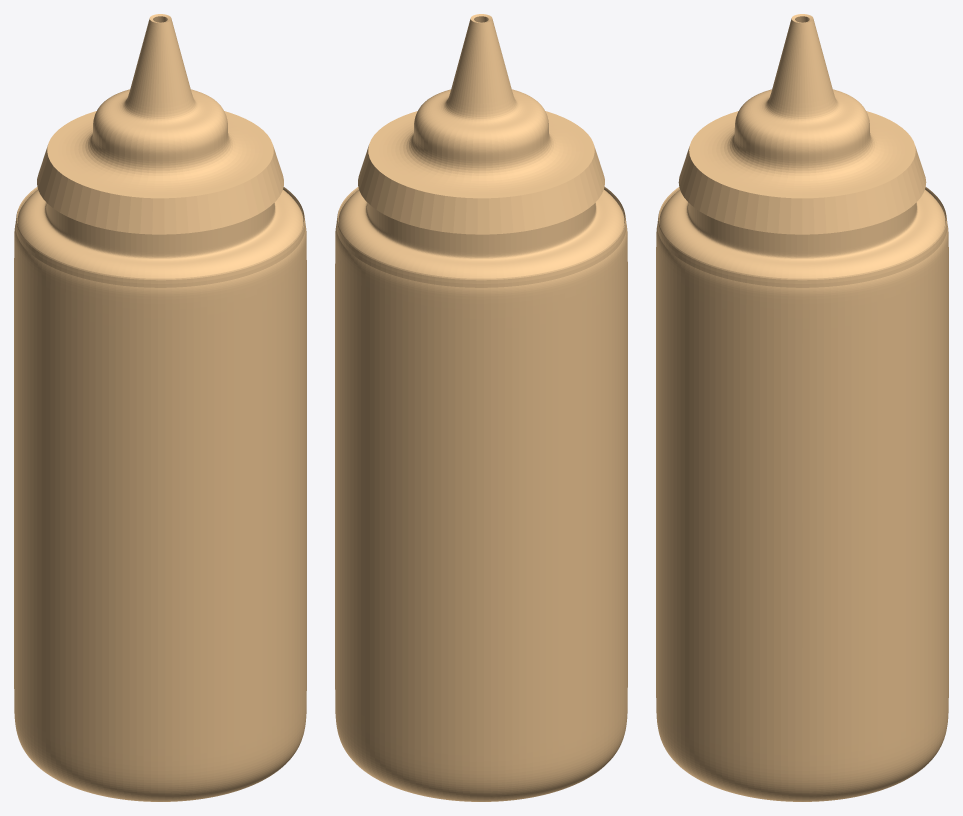
File: SaladDressing.fbx
3 views of the same model, side by side, from view 1: azimuth 30°, elevation 25°; view 2: azimuth 150°, elevation 25°; view 3: azimuth 270°, elevation 25° (orthographic).
Parts seen in each view (by area): view 1: SaladDressing, SaladDressing.001; view 2: SaladDressing, SaladDressing.001; view 3: SaladDressing, SaladDressing.001.
Part boxes in pixels (x1,y1,x2,y2): SaladDressing: (14, 186, 306, 801); SaladDressing.001: (37, 14, 283, 234); SaladDressing: (335, 187, 627, 801); SaladDressing.001: (358, 14, 604, 234); SaladDressing: (656, 187, 948, 801); SaladDressing.001: (678, 14, 926, 234).
Bounding box in the file's own units: 173 × 480 × 173.
